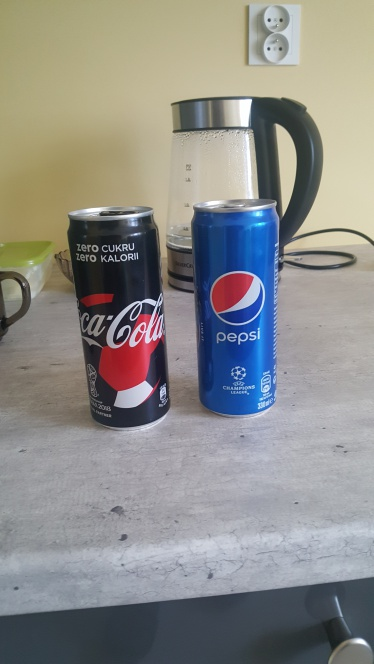colazero: (49, 202, 181, 433)
pepsi: (189, 195, 290, 425)
